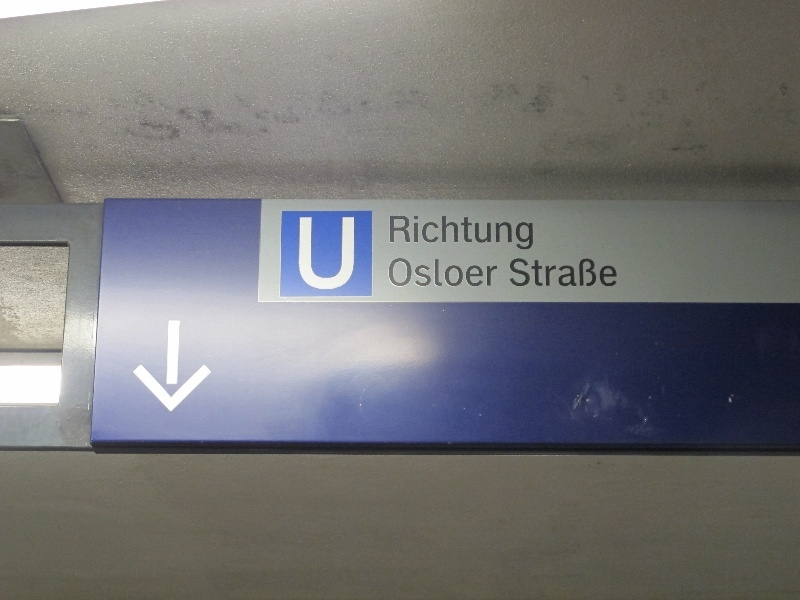text: (305, 217, 320, 290), (321, 217, 336, 290), (337, 217, 352, 290), (401, 216, 416, 251), (417, 216, 432, 251), (433, 216, 448, 251), (449, 216, 464, 251), (465, 216, 480, 251), (481, 216, 496, 251), (497, 216, 512, 251), (513, 216, 528, 251), (513, 259, 528, 288), (529, 259, 544, 288), (545, 259, 560, 288), (561, 259, 576, 288), (577, 259, 592, 288), (593, 259, 608, 288), (401, 259, 416, 287), (417, 259, 432, 287), (433, 259, 448, 287), (449, 259, 464, 287), (465, 259, 480, 287), (481, 259, 496, 287), (390, 216, 400, 251), (300, 217, 304, 290), (390, 259, 400, 287), (609, 259, 617, 288), (529, 216, 533, 251), (353, 217, 354, 290), (510, 259, 512, 288), (497, 259, 498, 287)
